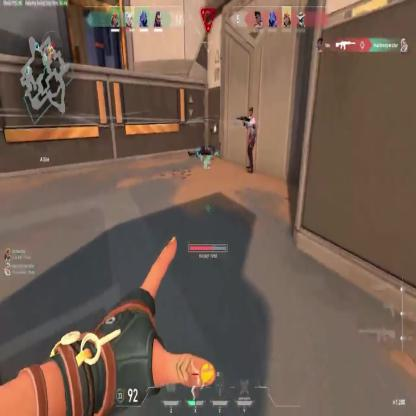enemy: (245, 106, 257, 172)
enemy_head: (248, 106, 254, 119)
